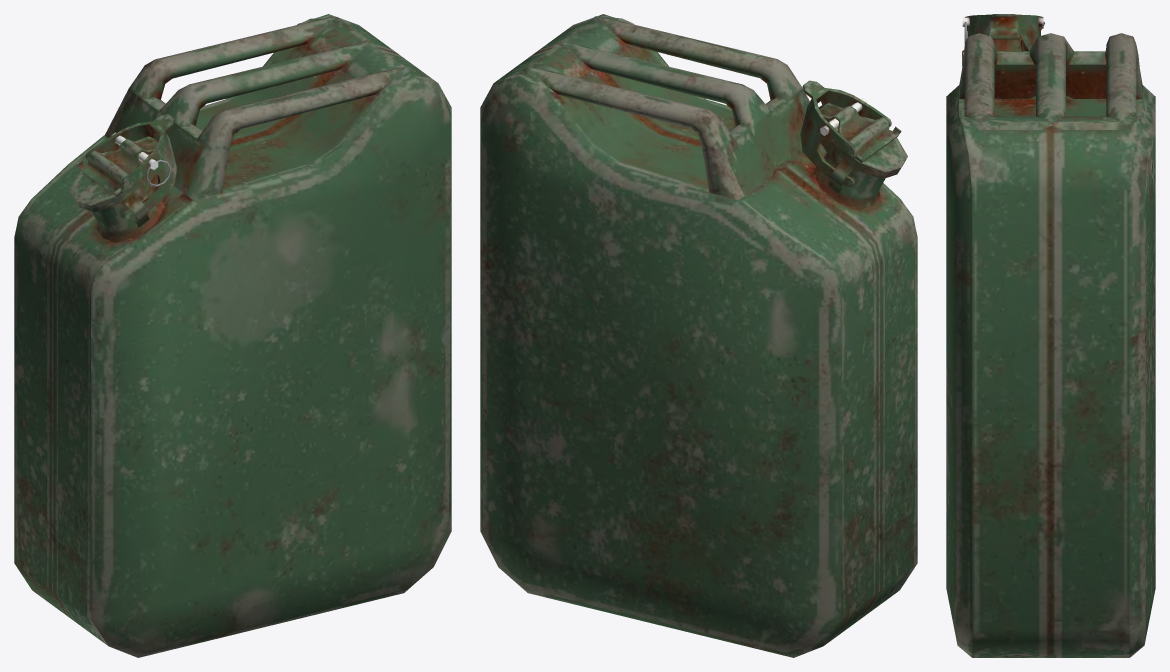
The model's file is canister.glb.
3 views of the same model, side by side, from view 1: azimuth 30°, elevation 25°; view 2: azimuth 150°, elevation 25°; view 3: azimuth 270°, elevation 25° (orthographic). The views are drawn at different scales.
Parts seen in each view (by area): view 1: Object037_Material #3_0; view 2: Object037_Material #3_0; view 3: Object037_Material #3_0.
Boxes of the visible parts, x1,y1,x2,y2 form: Object037_Material #3_0: (14,14,451,657); Object037_Material #3_0: (480,14,917,657); Object037_Material #3_0: (946,14,1155,657).
Size of the model in its own units: 0.34 by 0.47 by 0.1657.
1 material, 1 textured.
